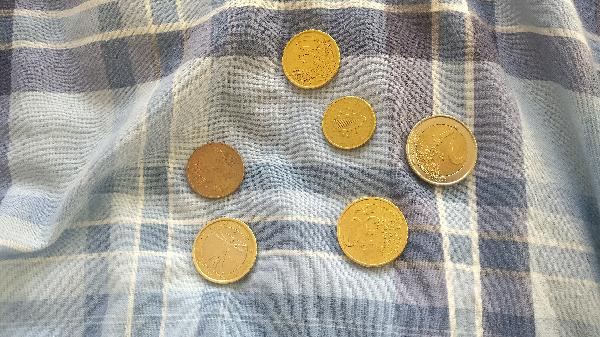Fifty Cent: (336, 200, 411, 269)
Five Cent: (186, 142, 244, 199)
One Euro: (192, 217, 258, 283)
Ten Cent: (322, 96, 378, 151)
Twenty Cent: (279, 28, 347, 90)
Two Euro: (402, 116, 481, 190)
